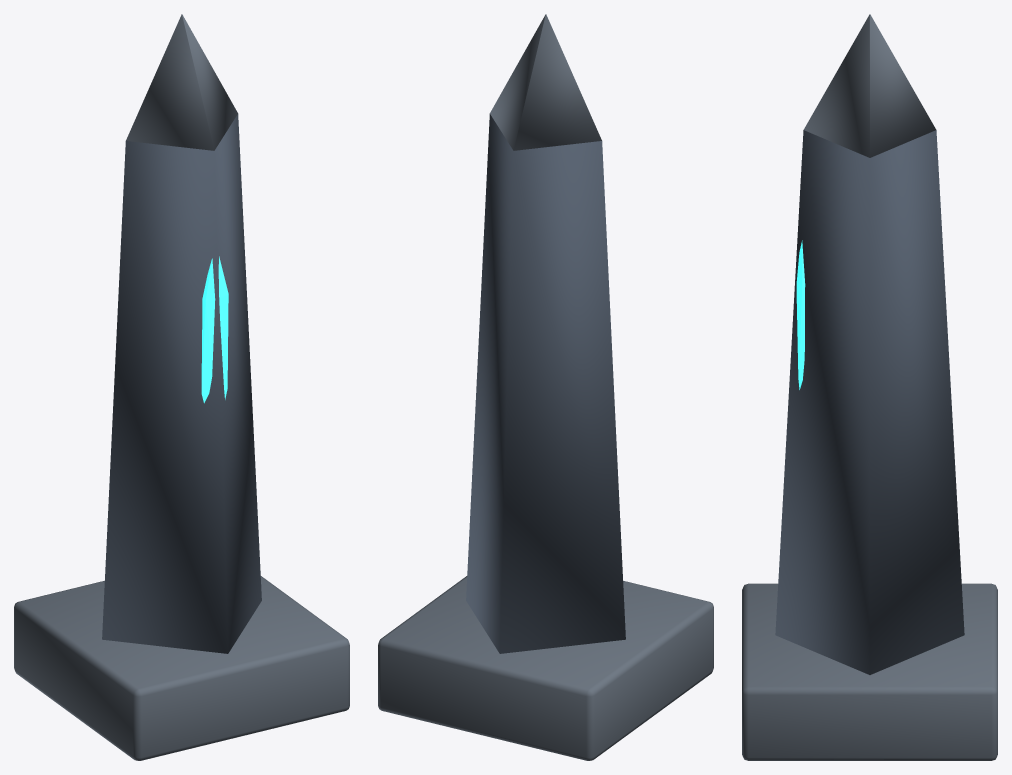
The model's file is prop-11-refined-v15.fbx.
3 views of the same model, side by side, from view 1: azimuth 30°, elevation 25°; view 2: azimuth 150°, elevation 25°; view 3: azimuth 270°, elevation 25° (orthographic). The views are drawn at different scales.
Parts seen in each view (by area): view 1: Obelisk, ObeliskBase, ObeliskTip, ObeliskRune; view 2: Obelisk, ObeliskBase, ObeliskTip; view 3: Obelisk, ObeliskBase, ObeliskTip, ObeliskRune.
Part boxes in pixels (x1=…): Obelisk: x1=102, y1=113, x2=261, y2=653; ObeliskBase: x1=14, y1=576, x2=349, y2=760; ObeliskTip: x1=126, y1=14, x2=237, y2=150; ObeliskRune: x1=201, y1=256, x2=228, y2=403; Obelisk: x1=466, y1=113, x2=625, y2=653; ObeliskBase: x1=378, y1=576, x2=713, y2=760; ObeliskTip: x1=490, y1=14, x2=601, y2=150; Obelisk: x1=775, y1=130, x2=964, y2=674; ObeliskBase: x1=742, y1=583, x2=997, y2=760; ObeliskTip: x1=803, y1=14, x2=936, y2=157; ObeliskRune: x1=796, y1=240, x2=805, y2=389.
Size of the model in its own units: 100 by 300 by 100.
